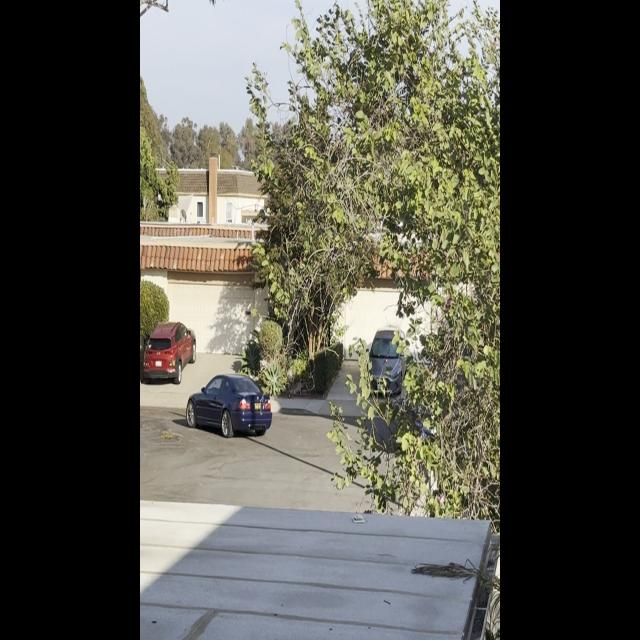Carbeetle: (182, 370, 274, 442)
Civilian: (140, 318, 199, 383), (363, 320, 409, 403)
